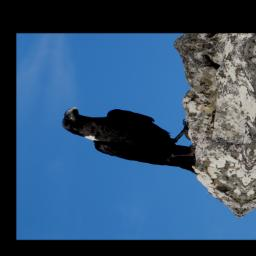Crow: (51, 103, 211, 176)
